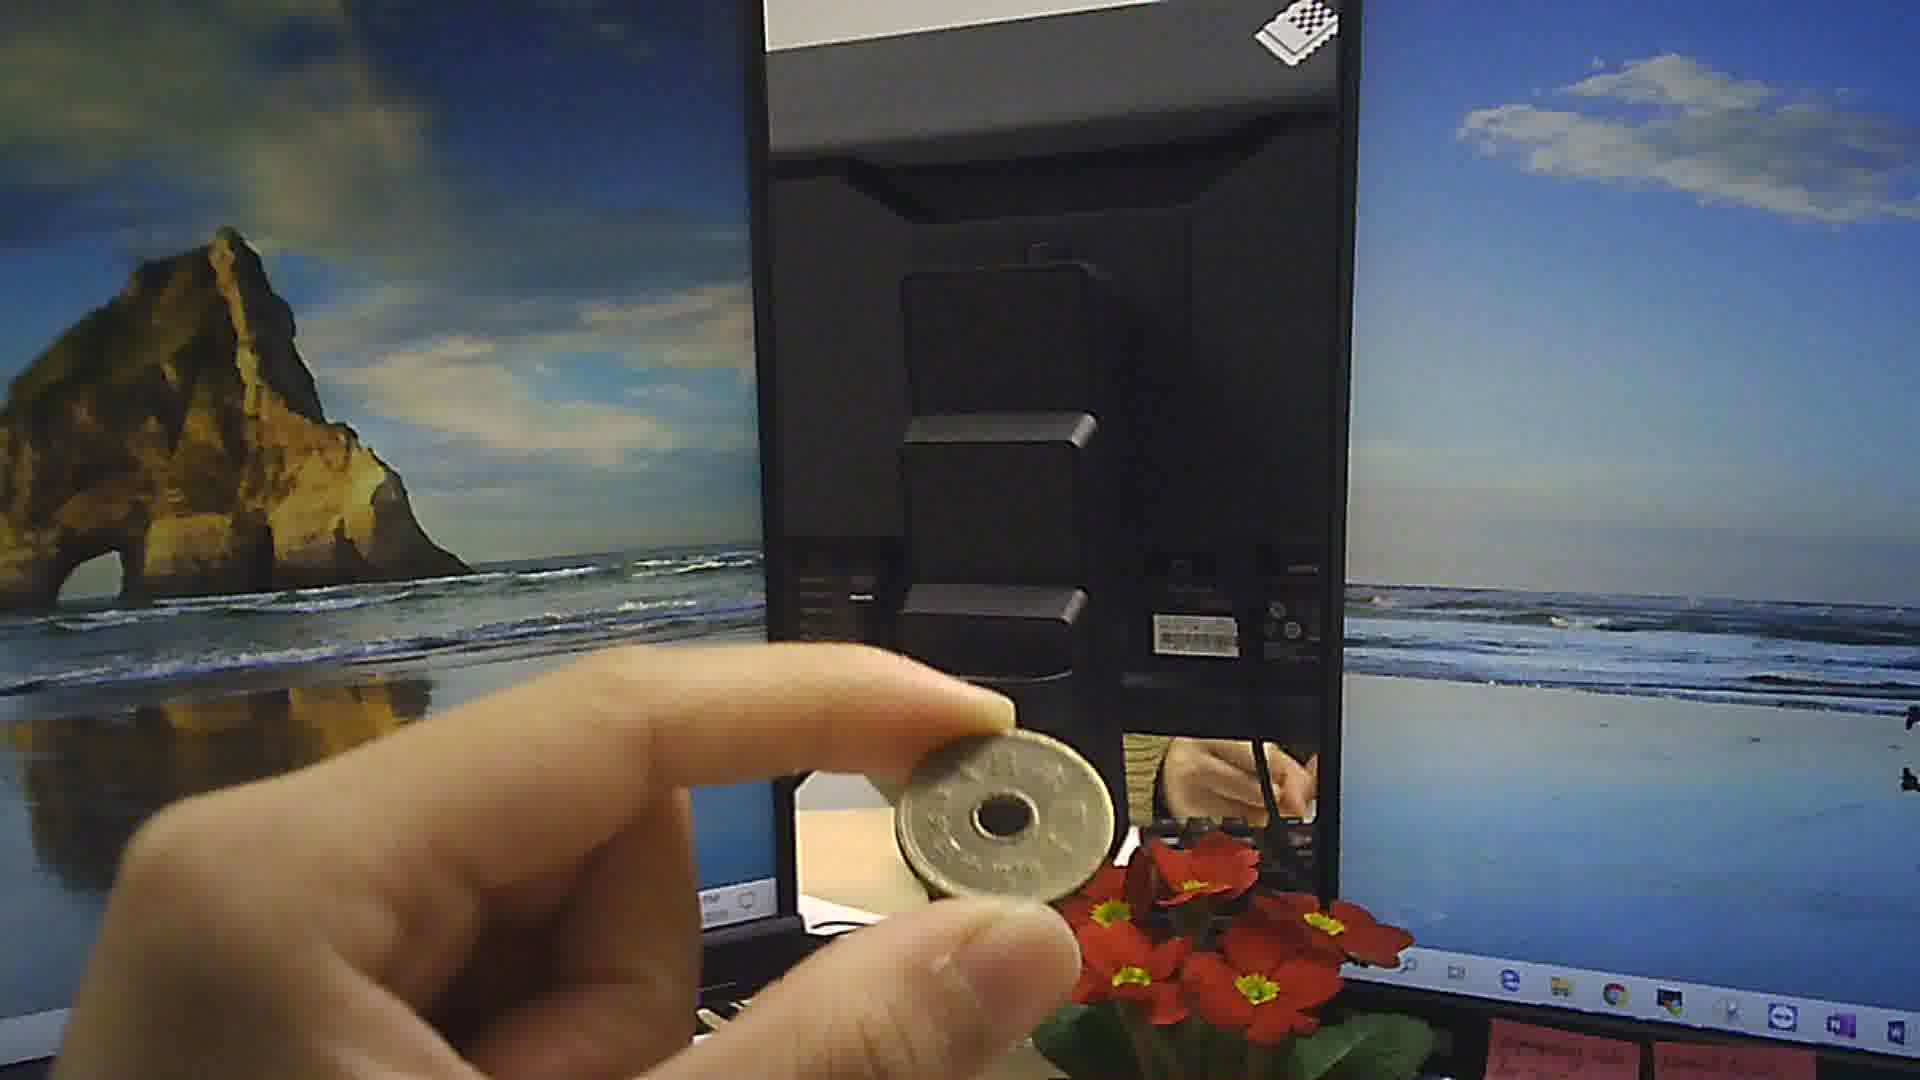5 Yen: (889, 724, 1114, 906)
